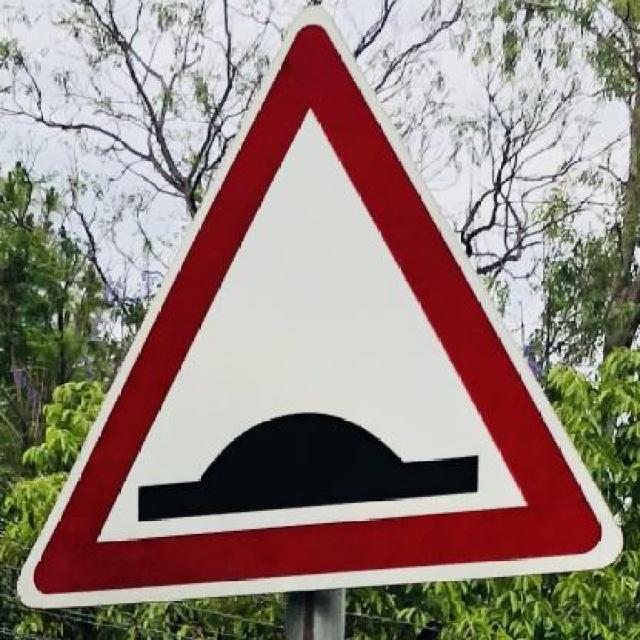hump or rough road: (31, 19, 601, 600)
